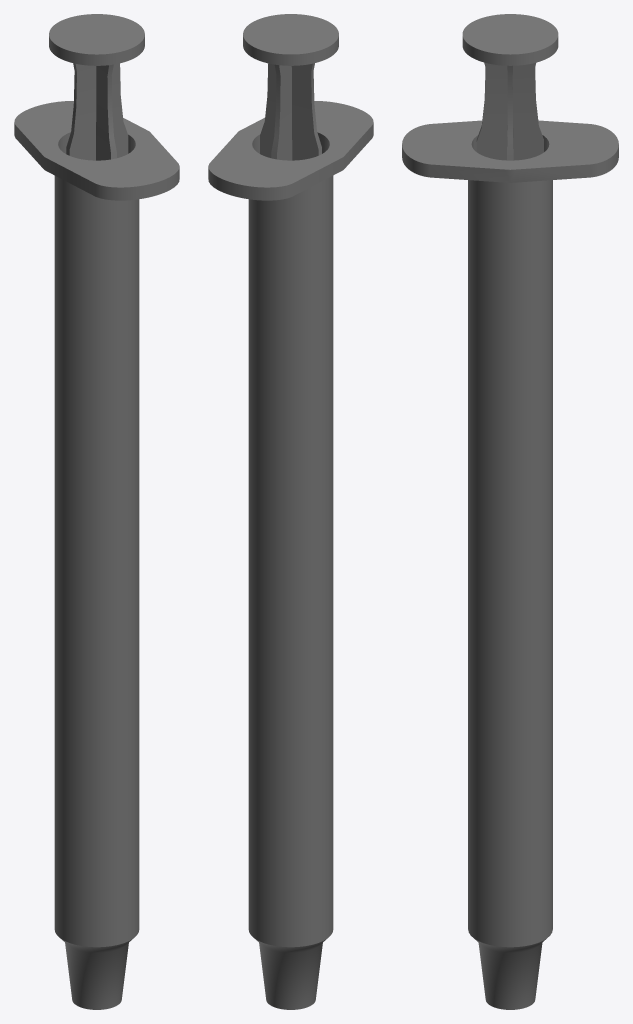
File: Syringe1.5ml.fbx
3 views of the same model, side by side, from view 1: azimuth 30°, elevation 25°; view 2: azimuth 150°, elevation 25°; view 3: azimuth 270°, elevation 25° (orthographic).
Parts seen in each view (by area): view 1: syringe, InsideSyringe_1, Cap_2, top; view 2: syringe, InsideSyringe_1, Cap_2, top; view 3: syringe, InsideSyringe_1, Cap_2, top.
Boxes of the visible parts, x1=… form: syringe: x1=14, y1=101, x2=179, y2=1009; InsideSyringe_1: x1=66, y1=63, x2=128, y2=160; Cap_2: x1=49, y1=14, x2=144, y2=54; top: x1=49, y1=35, x2=144, y2=65; syringe: x1=208, y1=101, x2=373, y2=1009; InsideSyringe_1: x1=260, y1=63, x2=321, y2=160; Cap_2: x1=243, y1=14, x2=338, y2=54; top: x1=243, y1=35, x2=338, y2=65; syringe: x1=402, y1=120, x2=618, y2=1009; InsideSyringe_1: x1=476, y1=62, x2=543, y2=160; Cap_2: x1=462, y1=14, x2=558, y2=54; top: x1=462, y1=36, x2=558, y2=65.
Size of the model in its own units: 1.94 by 17 by 3.46.
